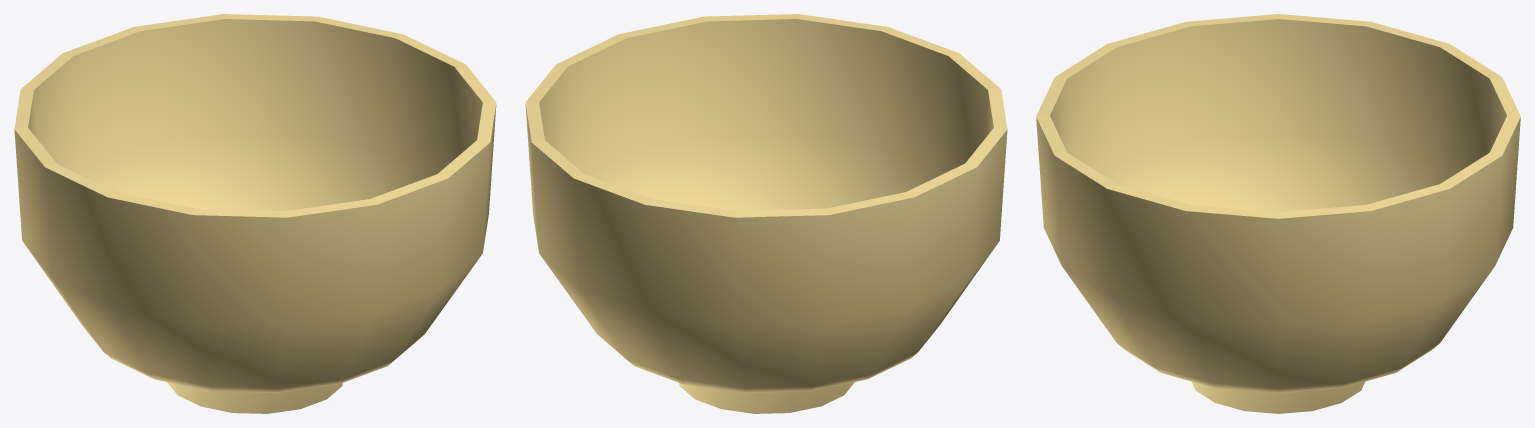
Rendered from Cup_for_game.fbx.
The picture shows the model from 3 angles, left to right: view 1: azimuth 30°, elevation 25°; view 2: azimuth 150°, elevation 25°; view 3: azimuth 270°, elevation 25°; orthographic projection.
Visible parts, largest first — view 1: Easy; view 2: Easy; view 3: Easy.
Part boxes in pixels (x1=…): Easy: x1=14, y1=14, x2=496, y2=413; Easy: x1=525, y1=14, x2=1007, y2=413; Easy: x1=1036, y1=14, x2=1520, y2=413.
Size of the model in its own units: 1.19 by 0.7073 by 1.19.
1 material, 1 textured.
